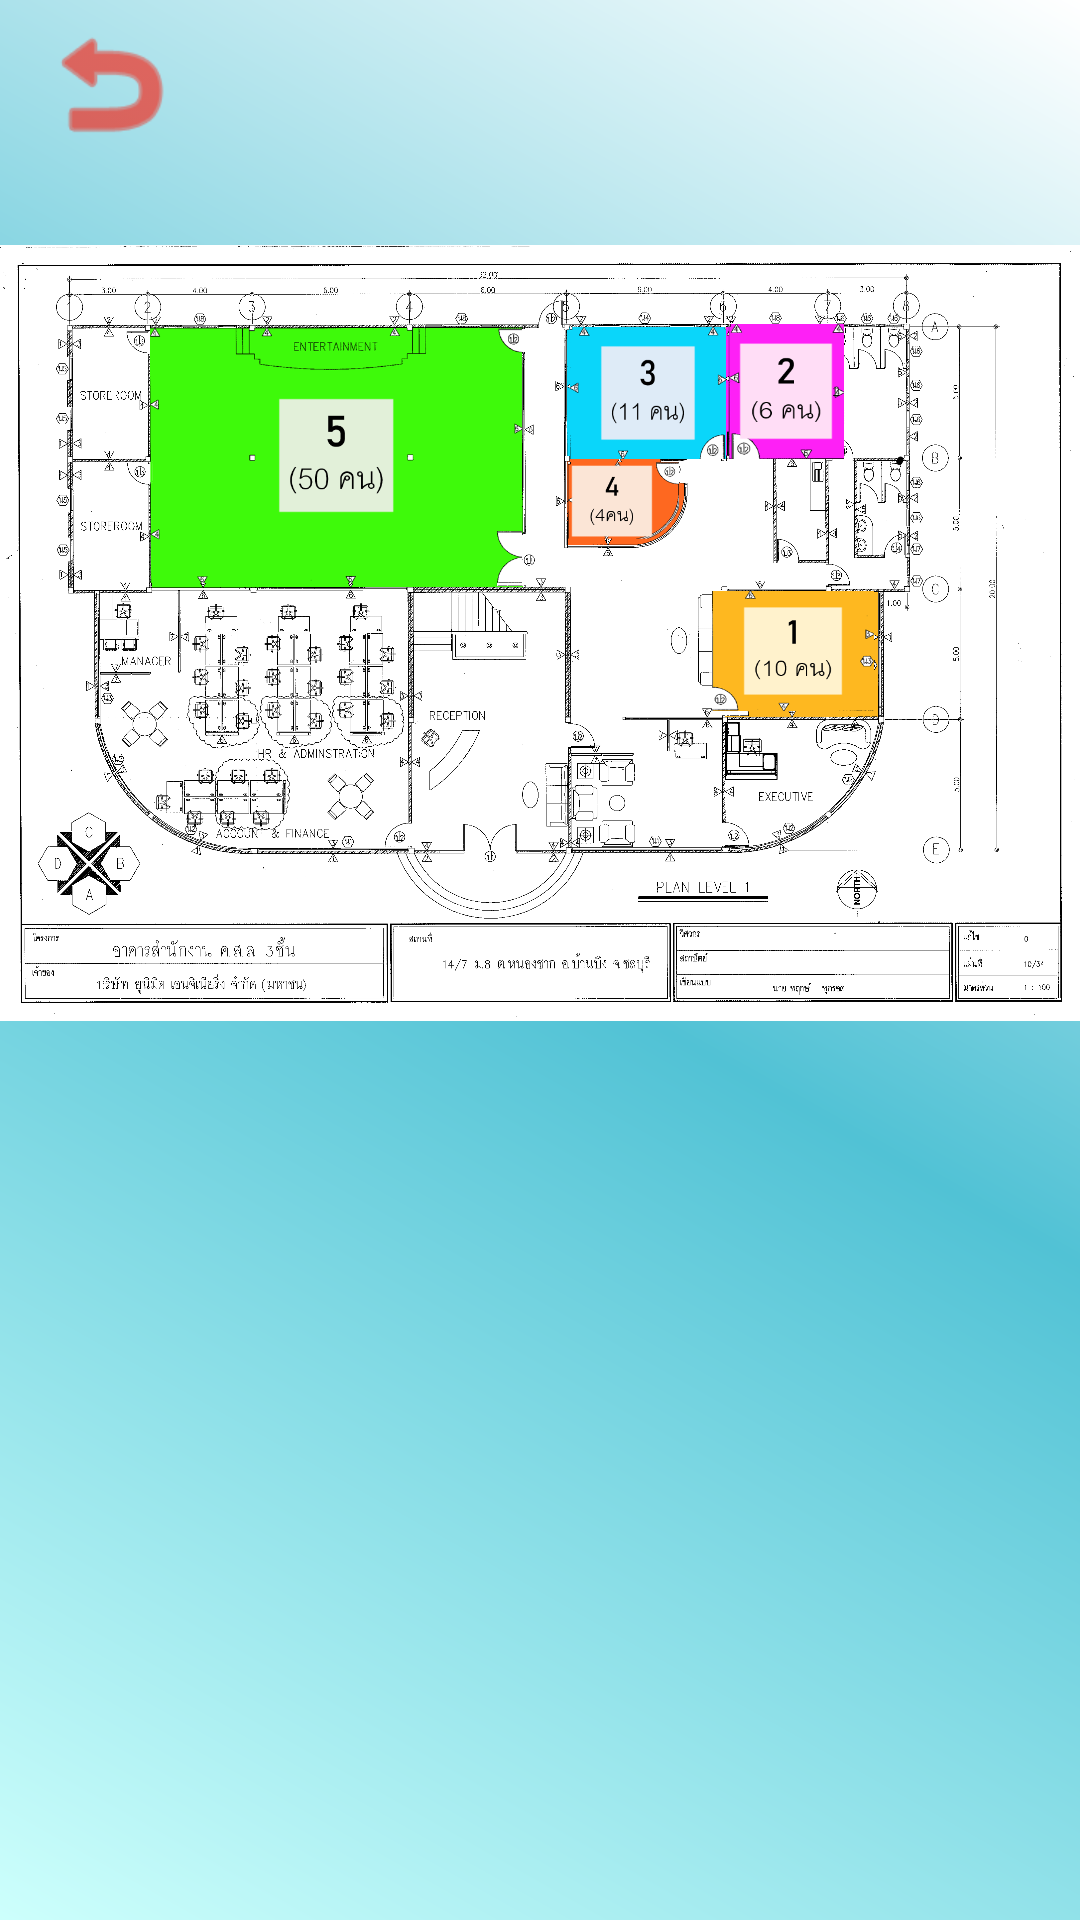

Named icons in this screenshot (1080w x 1920h) and their centers, (x=x, y=y):
revert: (x=112, y=85)
